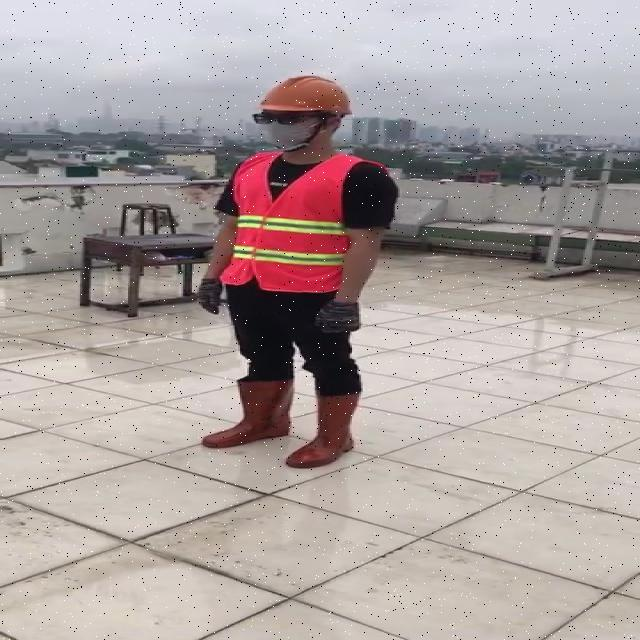Hard_hat: (247, 69, 353, 126)
Person: (194, 145, 405, 587)
Vest: (230, 147, 352, 291)
